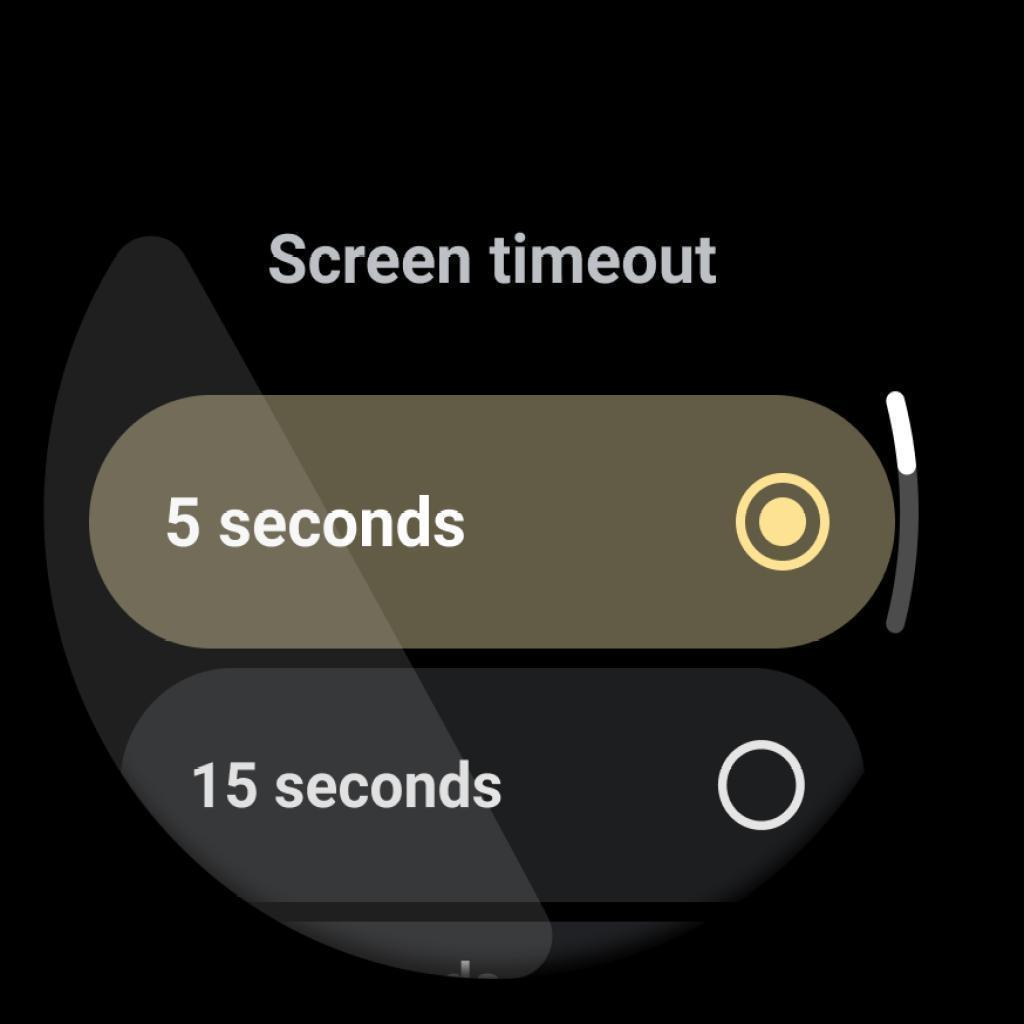label: (164, 483, 470, 565), (193, 754, 507, 819)
radio: (734, 471, 831, 570), (717, 736, 806, 837)
